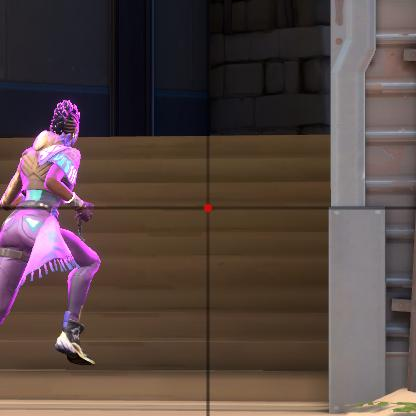enemyBody: (18, 147, 65, 255)
enemyHead: (55, 95, 87, 145)
